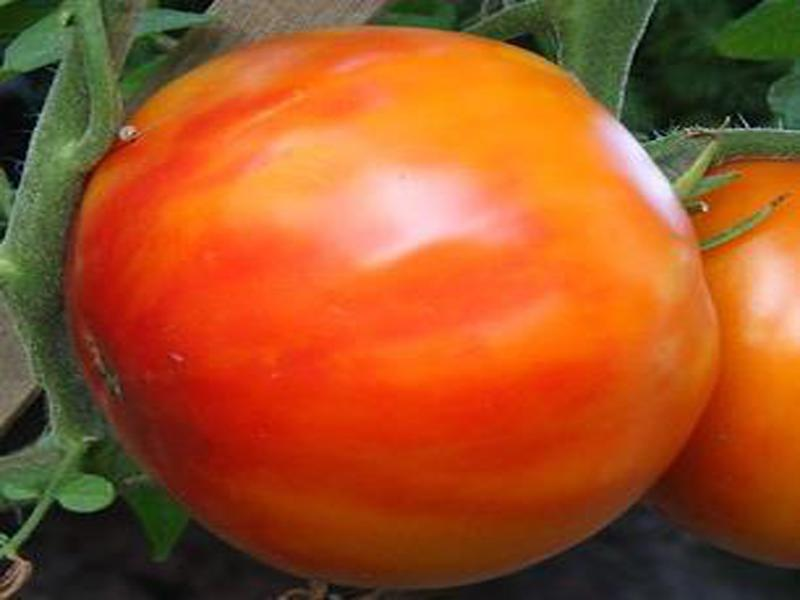Tomato: (68, 26, 711, 588)
